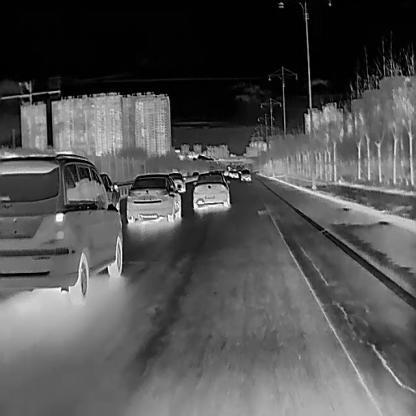car: (0, 151, 122, 307), (126, 173, 180, 223), (192, 172, 229, 212), (170, 171, 185, 192), (239, 169, 251, 181)
